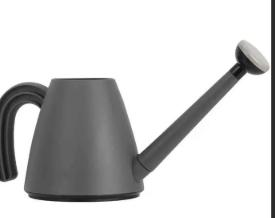ARROSOIR: (0, 36, 275, 218)
